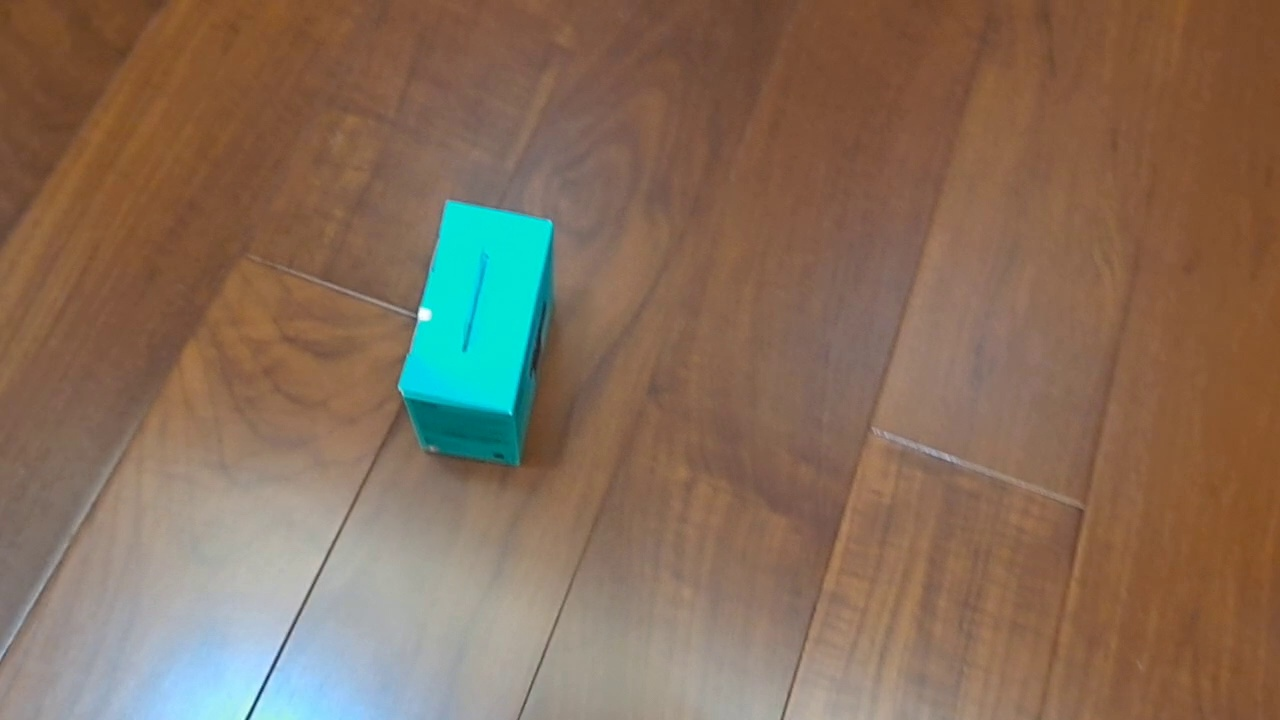webcam: (396, 197, 557, 468)
